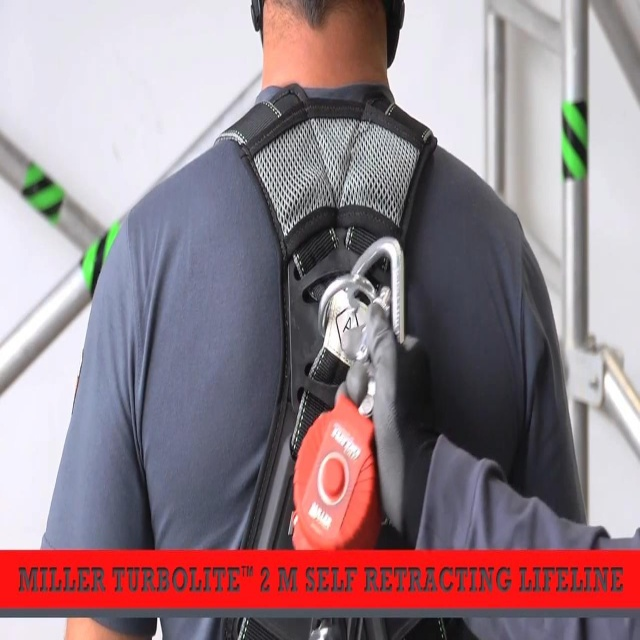Arnes_seguridad: (204, 79, 473, 640)
